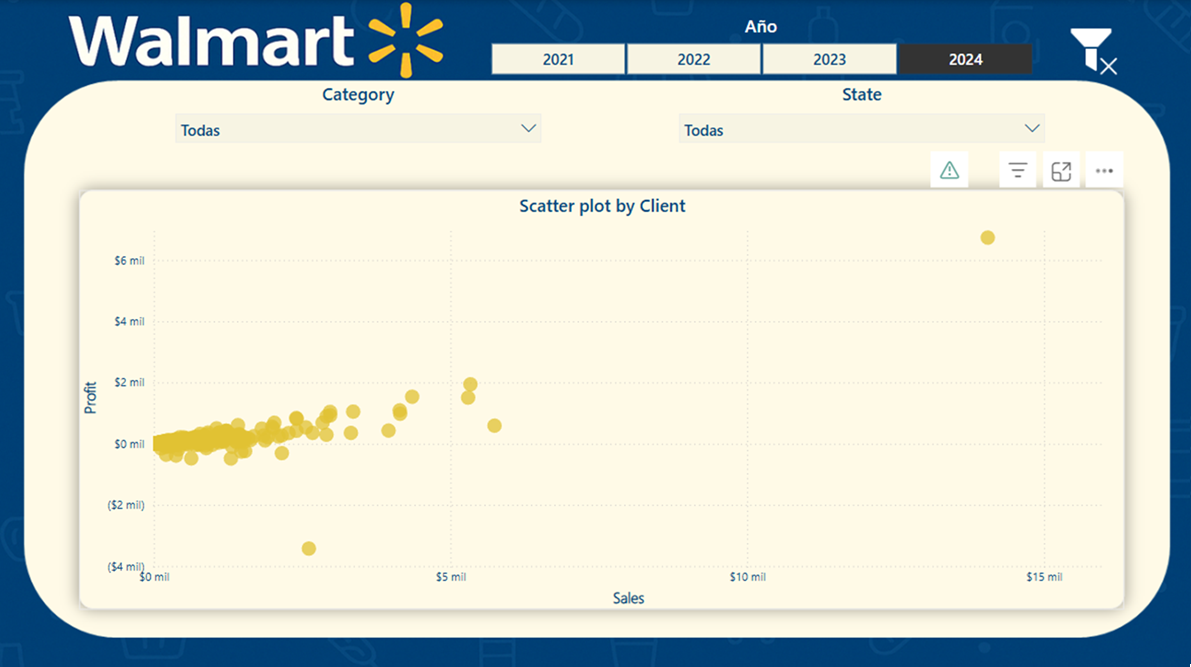

The page's visual inventory and layout, read from the dashboard file:
{"tool":"powerbi","page":{"name":"Customer Analysis","canvas":[1280,720],"ordinal":3},"visuals":[{"type":"slicer","title":"Año","fields":{"Values":["BASE WM.Year"]},"box":[502.4,11.9,626.3,73],"z":0},{"type":"scatterChart","title":"Scatter plot by Client","fields":{"Y":["DAX.TProfit"],"X":["DAX.TSales"],"Category":["BASE WM.Customer Name"]},"box":[85.7,204,1119.8,448.8],"z":1000},{"type":"slicer","title":"Category","fields":{"Values":["BASE WM.Category"]},"box":[179.5,85.7,408,87.7],"z":2000},{"type":"slicer","title":"State","fields":{"Values":["BASE WM.City"]},"box":[720,85.7,408,87.7],"z":3000},{"type":"image","box":[1140.5,25.5,62.8,59.4],"z":4000}]}

Visuals, with their boxes in screenshot pixels (x1, y1, x2, y2), scaled from the page's 1280x720 canvas onto the 1191x667 screenshot:
"Año" slicer: [467,11,1050,79]
"Scatter plot by Client" scatterChart: [80,189,1122,605]
"Category" slicer: [167,79,547,161]
"State" slicer: [670,79,1050,161]
image: [1061,24,1120,79]
